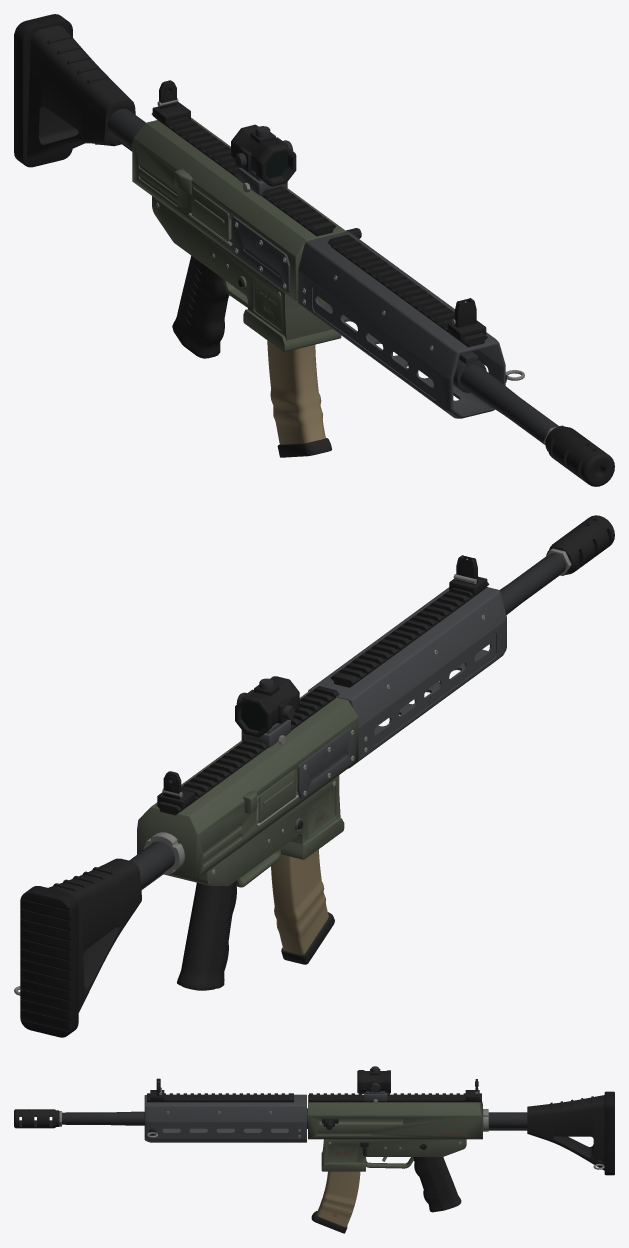
The model's file is RoadrunnerR12.fbx.
3 views of the same model, one above another, from view 1: azimuth 30°, elevation 25°; view 2: azimuth 150°, elevation 25°; view 3: azimuth 270°, elevation 25° (orthographic). The views are drawn at different scales.
Visible parts, largest first — view 1: RBX_Body_Graphite, RBX_Body_PaintOliveGray, RBX_Body_Blackened, RBX_R12_Stock_PolyBlack, RBX_R12_Magazine_PolyTan, RBX_Body_DarkSteel, RBX_Body_PolyBlack, RBX_R12_Stock_Rubber, RBX_R12_DustCover_PaintOliveGray, RBX_Body_Steel, RBX_R12_Magazine_PolyBlack; view 2: RBX_Body_PaintOliveGray, RBX_Body_Graphite, RBX_Body_Blackened, RBX_R12_Stock_Rubber, RBX_R12_Stock_PolyBlack, RBX_Body_PolyBlack, RBX_R12_Magazine_PolyTan, RBX_Body_DarkSteel, RBX_Body_Steel, RBX_R12_DustCover_PaintOliveGray; view 3: RBX_Body_PaintOliveGray, RBX_Body_Graphite, RBX_Body_Blackened, RBX_R12_Stock_PolyBlack, RBX_Body_DarkSteel, RBX_R12_Magazine_PolyTan, RBX_Body_PolyBlack, RBX_R12_Stock_Rubber, RBX_Body_Steel, RBX_R12_Magazine_PolyBlack.
Part boxes in pixels (box(x1,y1,x2,y2)): RBX_Body_Graphite: box(231, 167, 505, 418); RBX_Body_PaintOliveGray: box(132, 117, 345, 351); RBX_Body_Blackened: box(151, 102, 614, 486); RBX_R12_Stock_PolyBlack: box(27, 25, 135, 159); RBX_R12_Magazine_PolyTan: box(267, 340, 325, 444); RBX_Body_DarkSteel: box(107, 108, 558, 444); RBX_Body_PolyBlack: box(172, 255, 229, 358); RBX_R12_Stock_Rubber: box(14, 14, 72, 167); RBX_R12_DustCover_PaintOliveGray: box(191, 187, 229, 241); RBX_Body_Steel: box(156, 98, 563, 444); RBX_R12_Magazine_PolyBlack: box(277, 438, 331, 457); RBX_Body_PaintOliveGray: box(137, 691, 358, 887); RBX_Body_Graphite: box(241, 587, 506, 799); RBX_Body_Blackened: box(156, 515, 614, 990); RBX_R12_Stock_Rubber: box(20, 886, 78, 1037); RBX_R12_Stock_PolyBlack: box(48, 858, 141, 1012); RBX_Body_PolyBlack: box(177, 880, 237, 989); RBX_R12_Magazine_PolyTan: box(271, 849, 328, 954); RBX_Body_DarkSteel: box(129, 553, 566, 890); RBX_Body_Steel: box(143, 548, 571, 874); RBX_R12_DustCover_PaintOliveGray: box(258, 769, 295, 822); RBX_Body_PaintOliveGray: box(308, 1095, 482, 1171); RBX_Body_Graphite: box(144, 1091, 387, 1142); RBX_Body_Blackened: box(14, 1068, 481, 1155); RBX_R12_Stock_PolyBlack: box(527, 1095, 604, 1170); RBX_Body_DarkSteel: box(62, 1066, 527, 1130); RBX_R12_Magazine_PolyTan: box(317, 1171, 360, 1227); RBX_Body_PolyBlack: box(413, 1157, 461, 1212); RBX_R12_Stock_Rubber: box(604, 1091, 614, 1175); RBX_Body_Steel: box(59, 1087, 488, 1149); RBX_R12_Magazine_PolyBlack: box(311, 1211, 347, 1233).
Bounding box in the file's own units: 0.4239 × 1.38 × 4.6.
